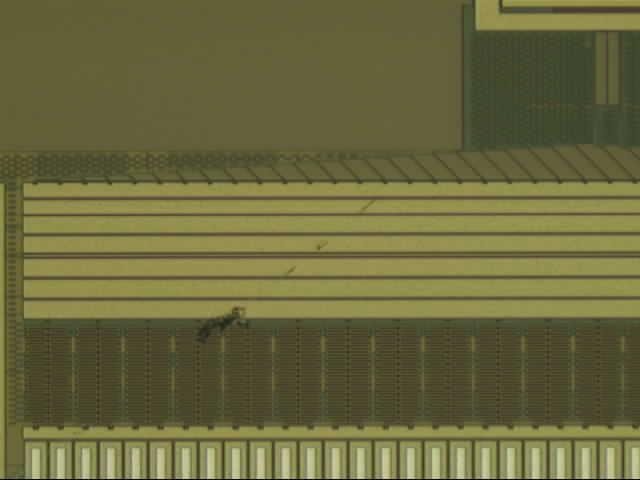SCRATCH: (188, 175, 404, 353)
